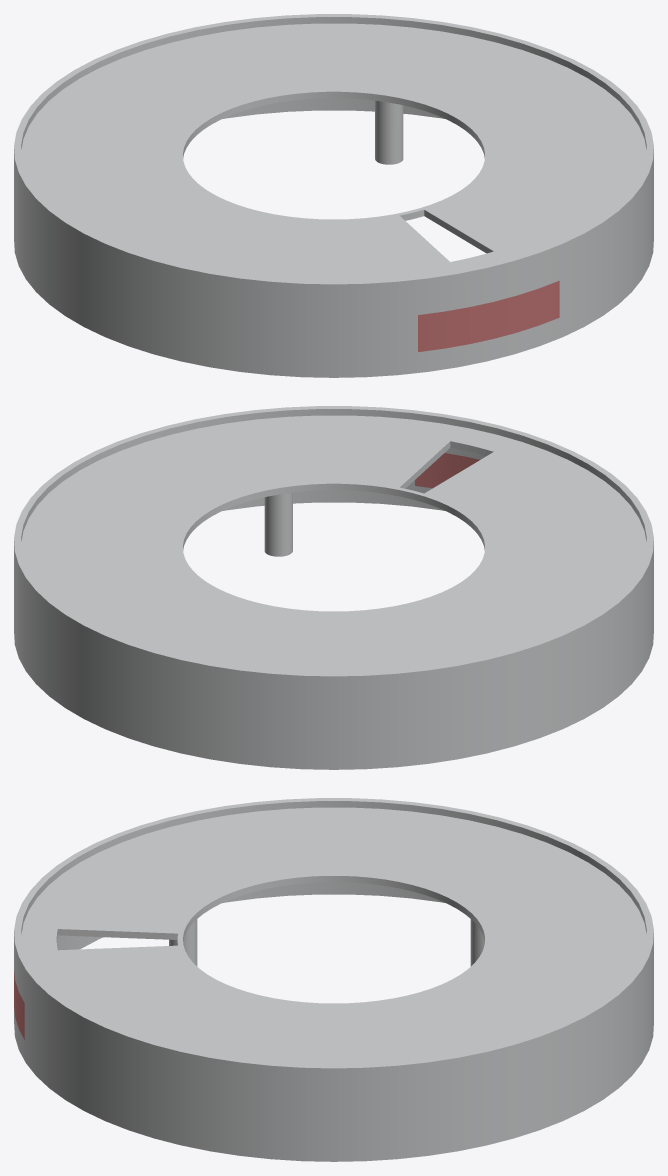
The model's file is step_05.glb.
The picture shows the model from 3 angles, top to bottom: view 1: azimuth 30°, elevation 25°; view 2: azimuth 150°, elevation 25°; view 3: azimuth 270°, elevation 25°; orthographic projection.
Parts seen in each view (by area): view 1: part__chassis, removed__chassis; view 2: part__chassis, removed__chassis; view 3: part__chassis.
Part boxes in pixels (x1,y1,x2,y2): part__chassis: (14,14,653,377); removed__chassis: (418,280,559,352); part__chassis: (14,406,653,769); removed__chassis: (415,453,479,488); part__chassis: (14,798,653,1161).
Size of the model in its own units: 180 by 30 by 180.
